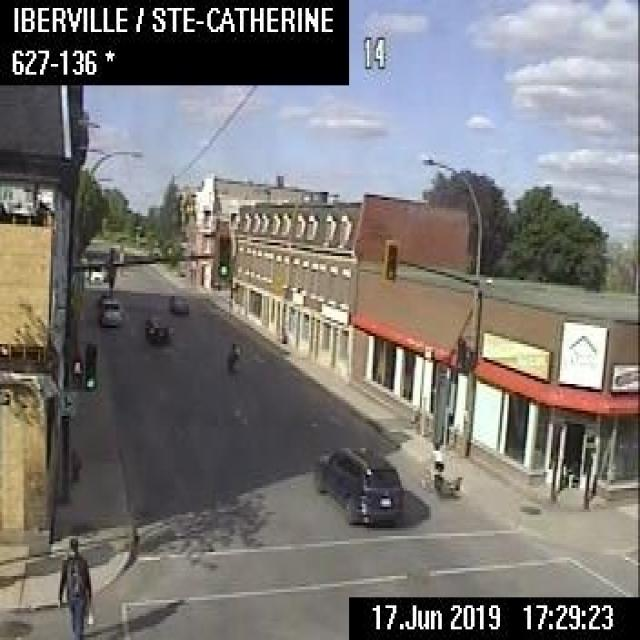cyclist: (416, 438, 449, 493), (224, 341, 238, 374)
pedestrian: (54, 531, 94, 637)
vehicle: (311, 444, 401, 524), (96, 294, 122, 326), (144, 317, 172, 343), (168, 292, 187, 313), (86, 262, 103, 283)
